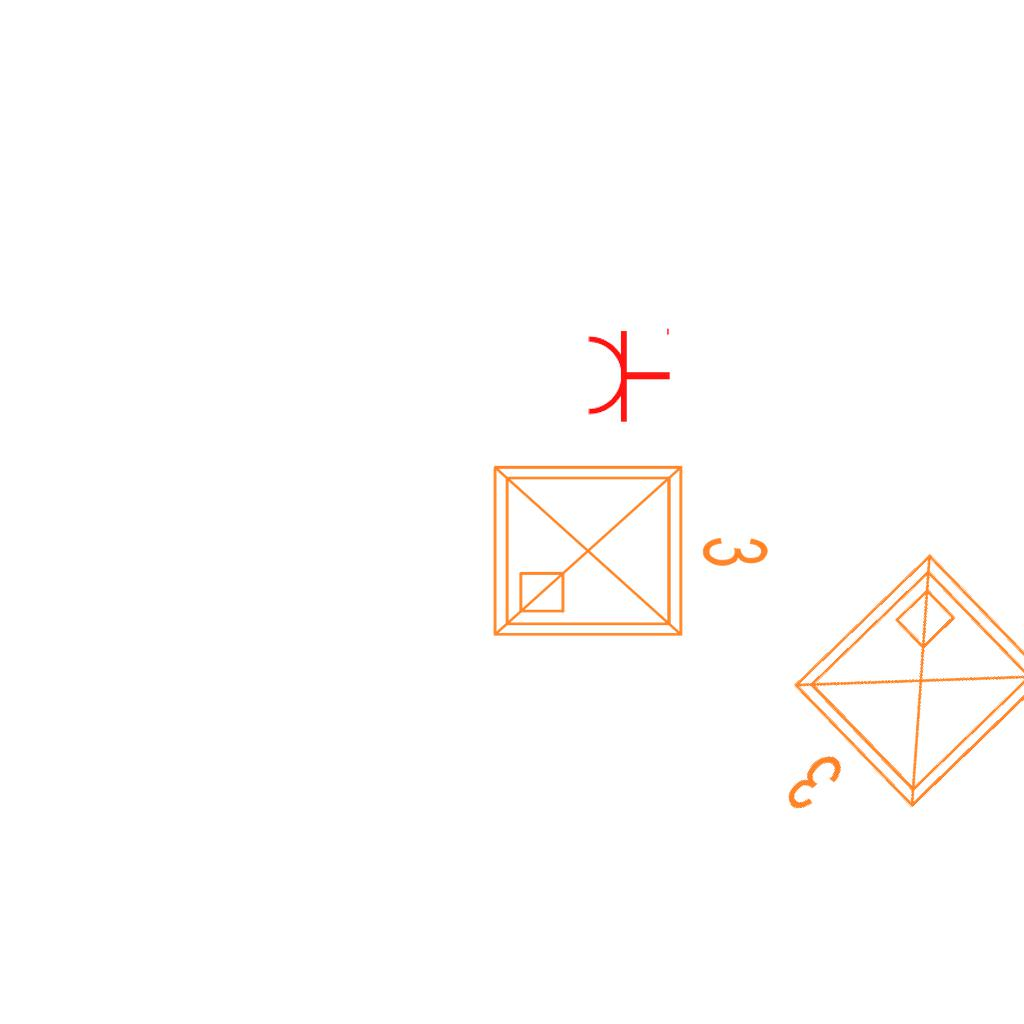Einbaudownlights_LED_Konferenzraeume: (713, 532, 1024, 892), (479, 443, 779, 651)
Schukosteckdose_einfach: (585, 324, 672, 424)
